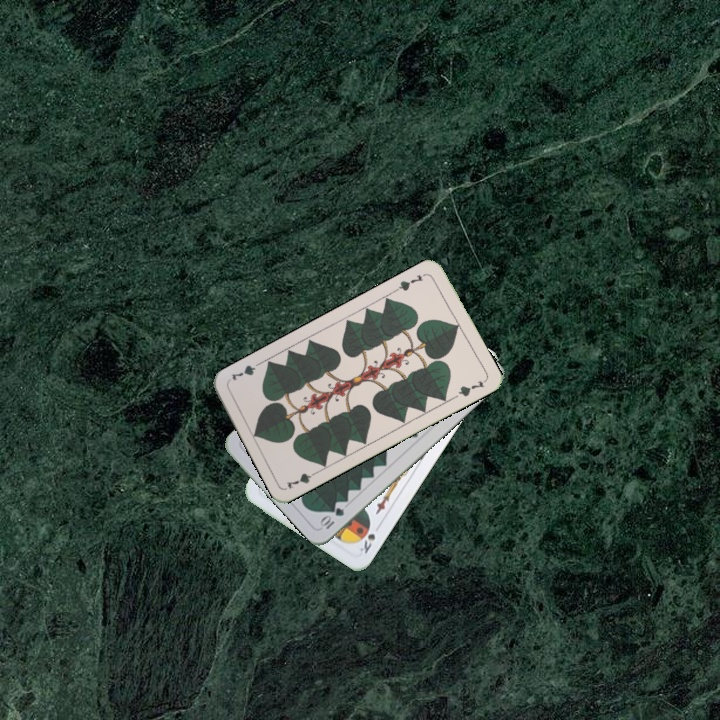G10: (316, 503, 347, 532)
G7: (392, 269, 430, 294), (282, 467, 321, 491)
SK: (355, 529, 378, 556)
